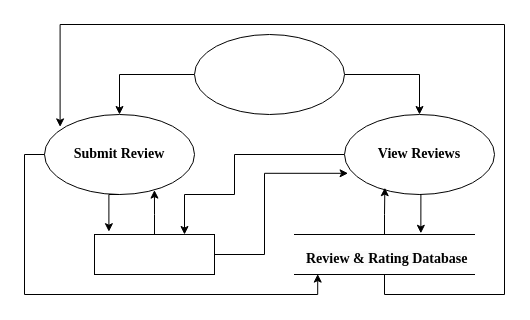
This 530x320 diagram has some shape labels left out. The centre of each missing label's shape, as x and y in pixels:
"Clients" belongs at (154,254).
"Review & Rating" belongs at (269,74).
